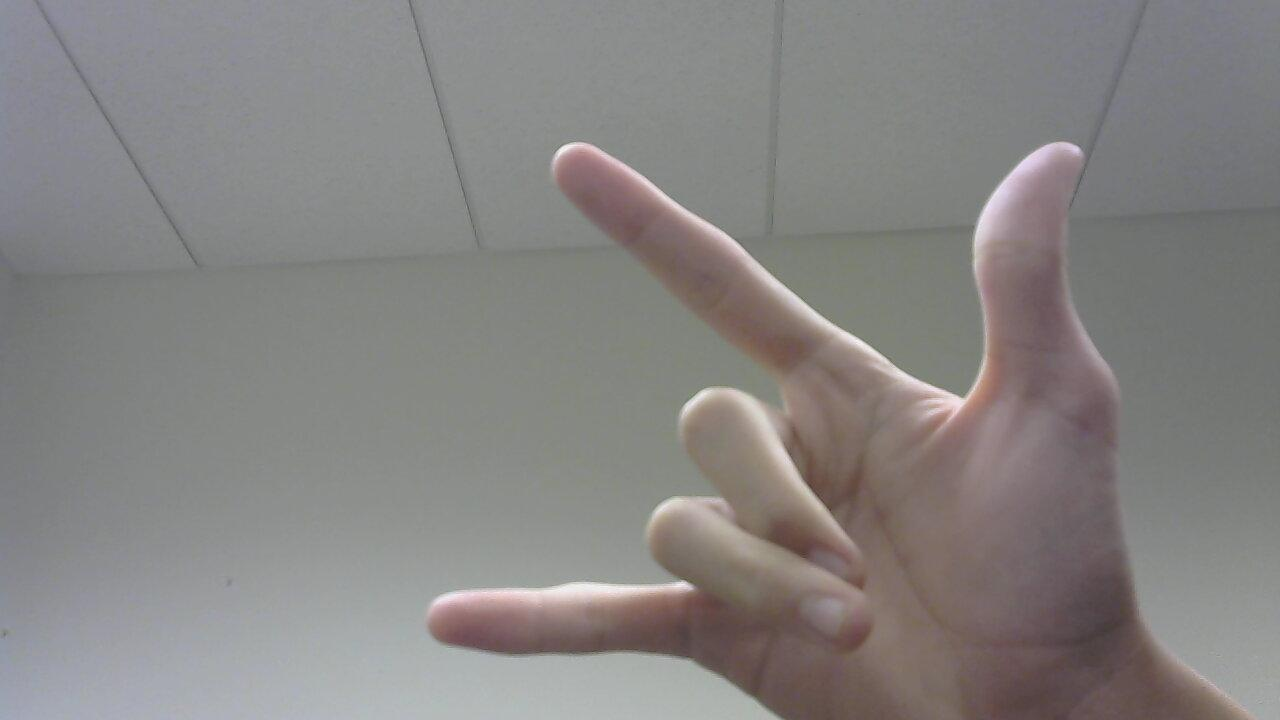hands: (406, 127, 1147, 720)
